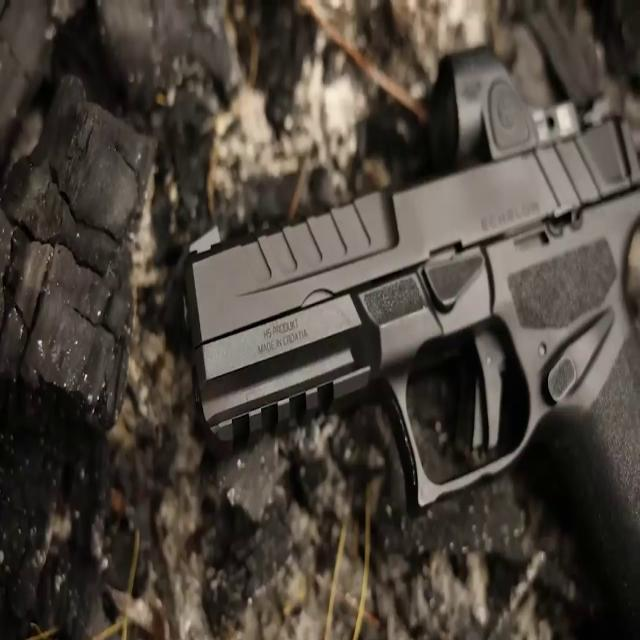Handgun: (175, 44, 640, 640)
